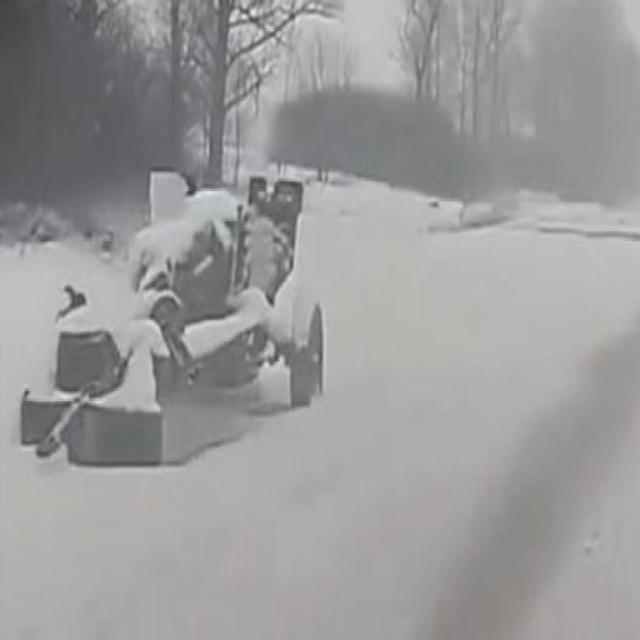ART: (14, 162, 326, 469)
